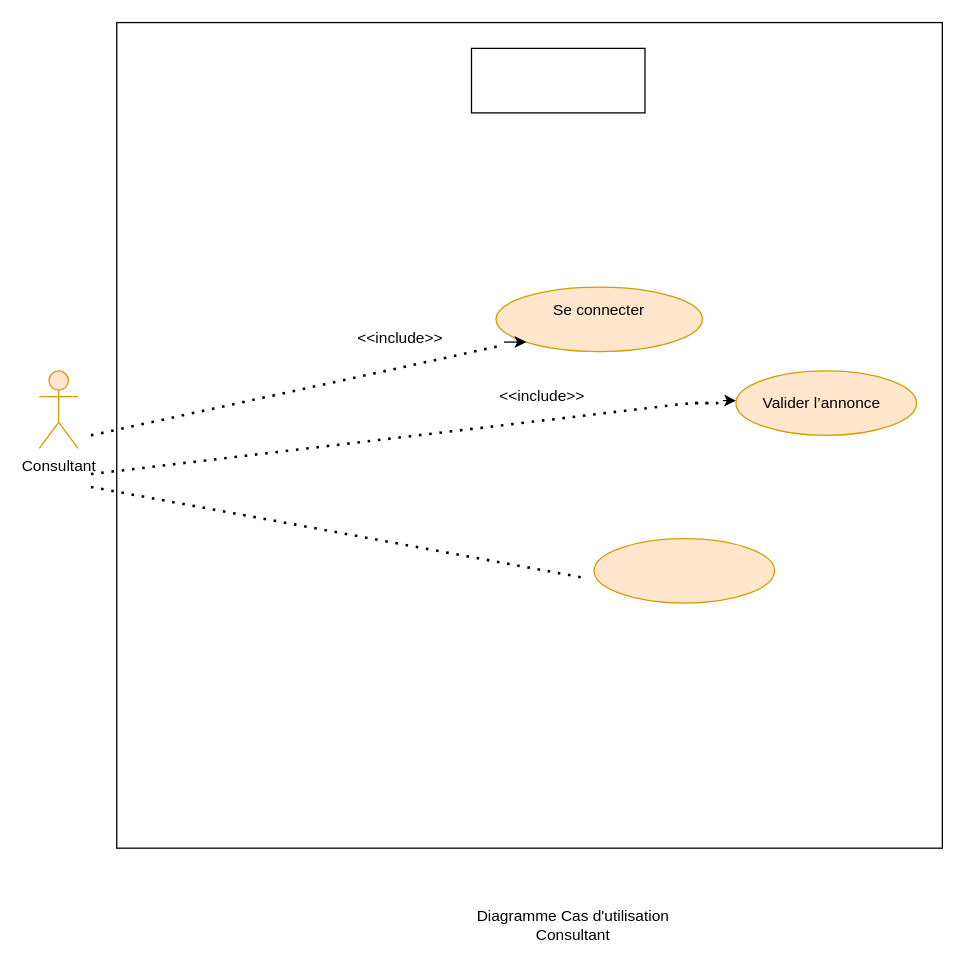
Some shapes in this 965 by 966 pixel diagram are drawn without their labels. Each missing label, with the centre of its shape:
"App TRT-Conseil" belongs at [557,80].
"Approuver ou non la démarche" belongs at [684,570].
